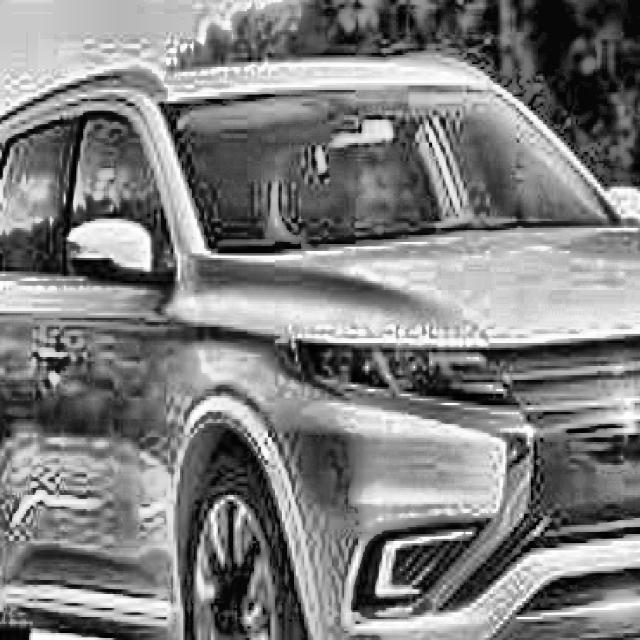light_vehicle: (0, 55, 640, 640)
